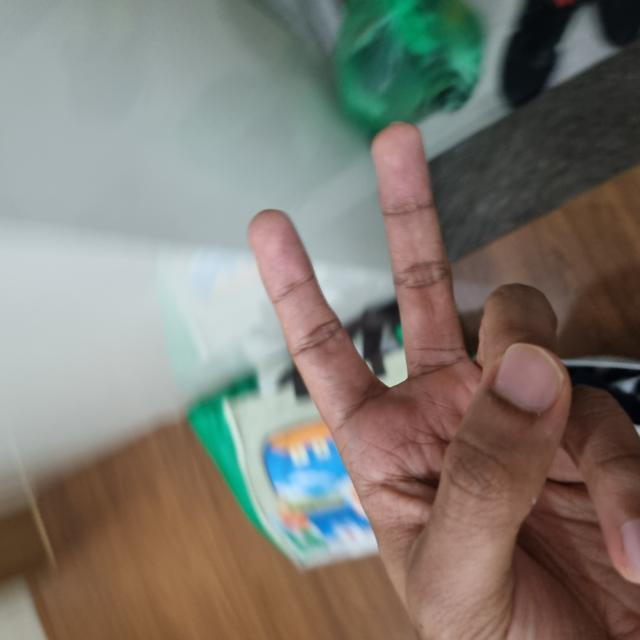Scissors: (1, 249, 516, 639)
